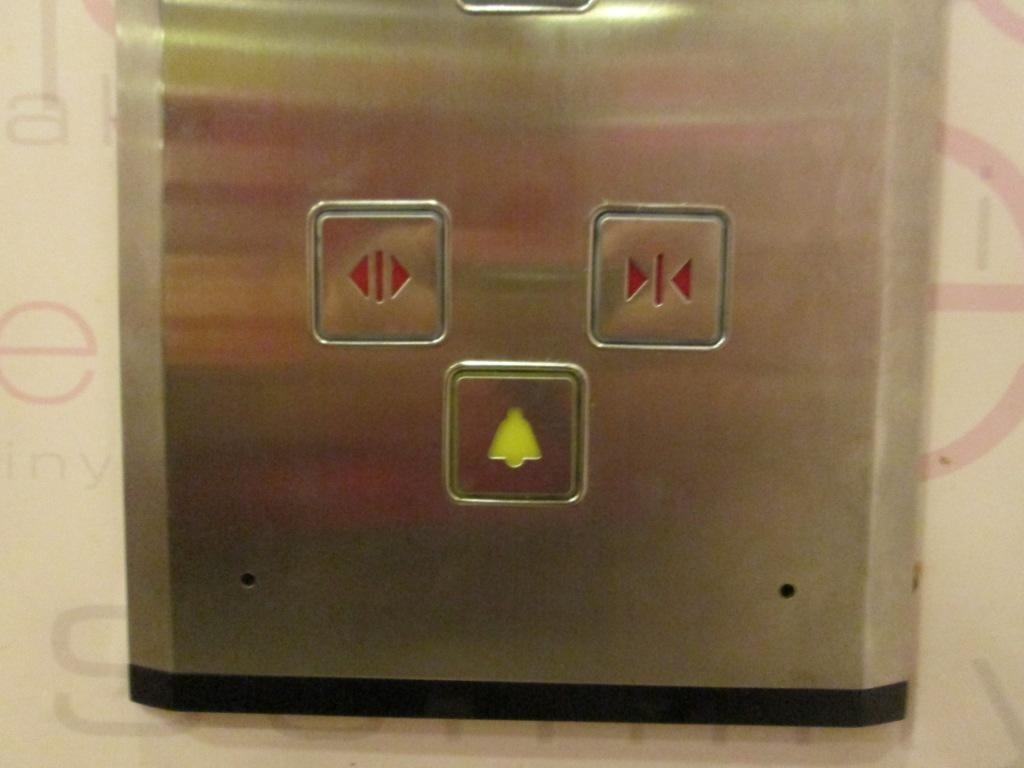alarm: (440, 360, 590, 508)
close: (586, 202, 735, 355)
open: (304, 198, 454, 348)
